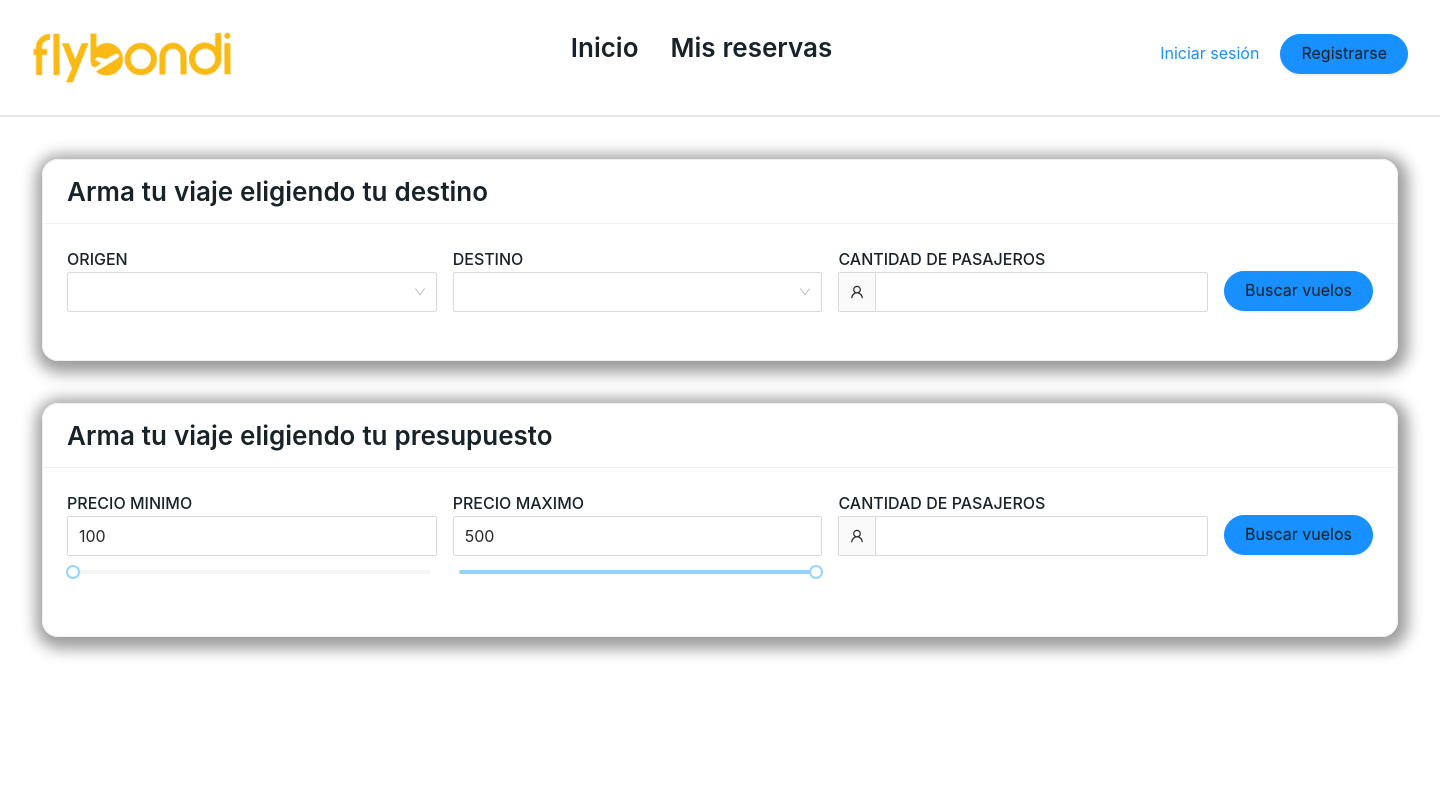
Test: Home testing › Search by destination (COR - MDZ) › Search with empty inputs
Click the button with id "buttonSubmitByDestination". click: (1299, 291)
box: [1224, 271, 1373, 311]
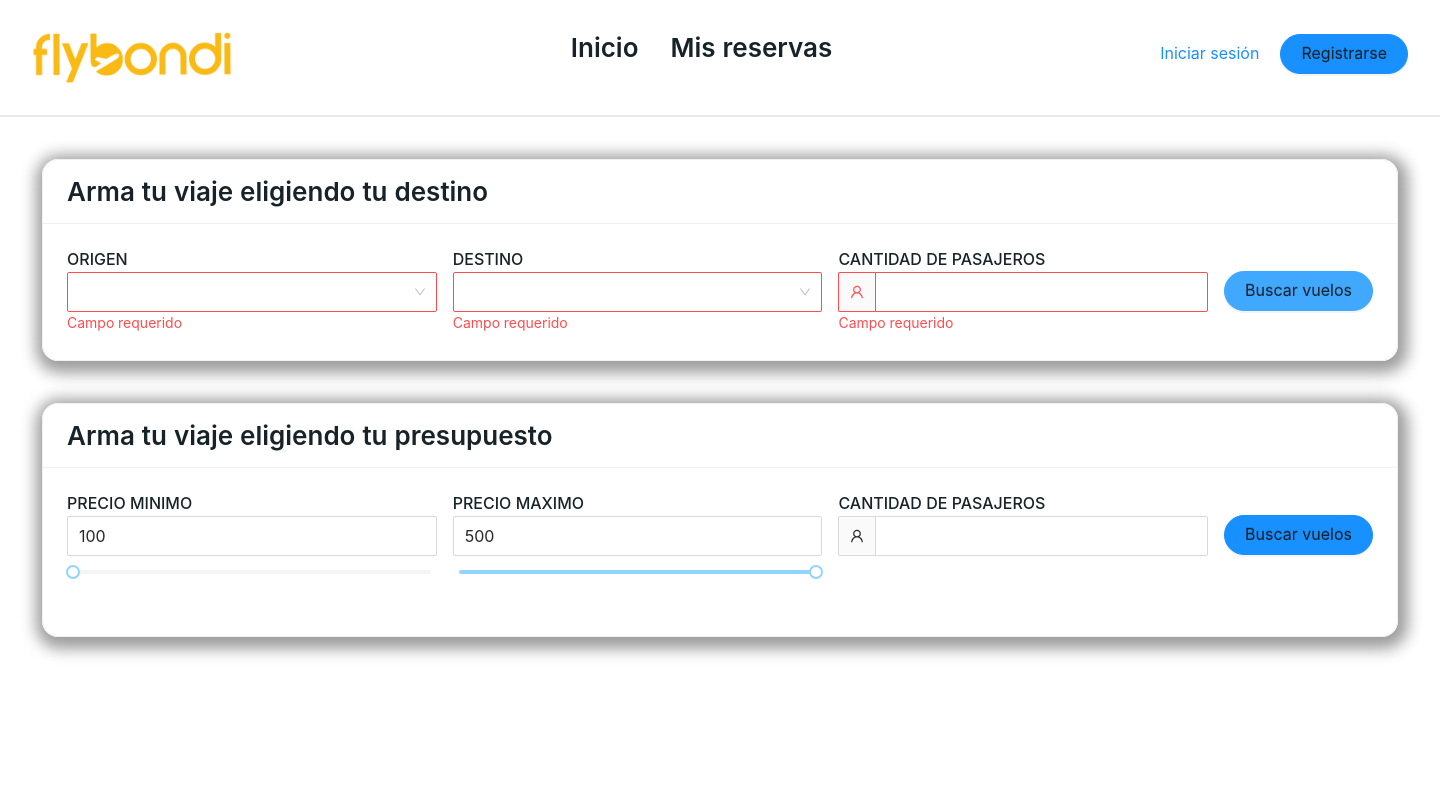
Expected: the text "Campo requerido" below "Origen" is shown, [67, 314, 182, 331]
